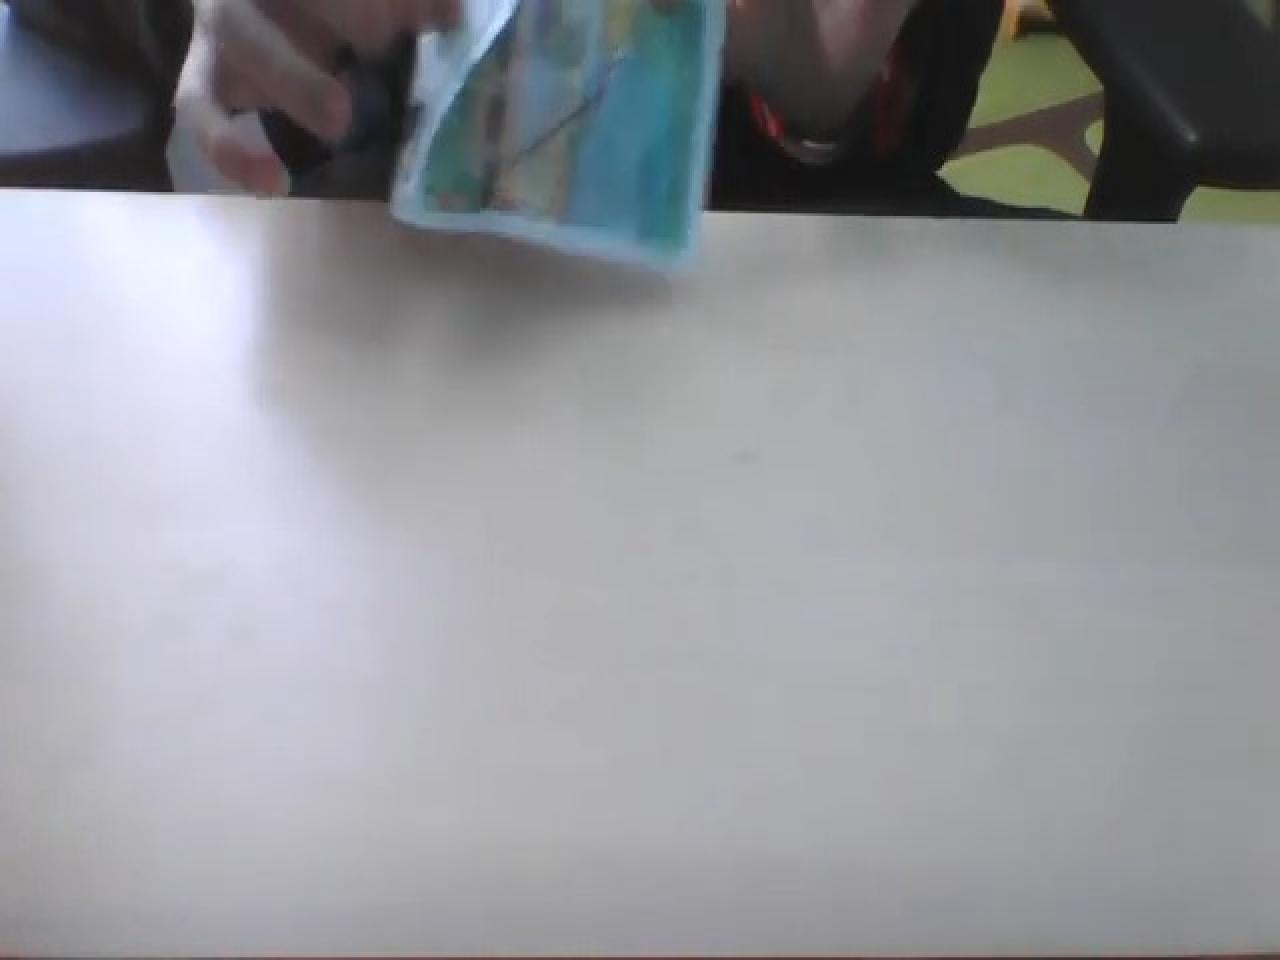100leva: (386, 0, 728, 267)
